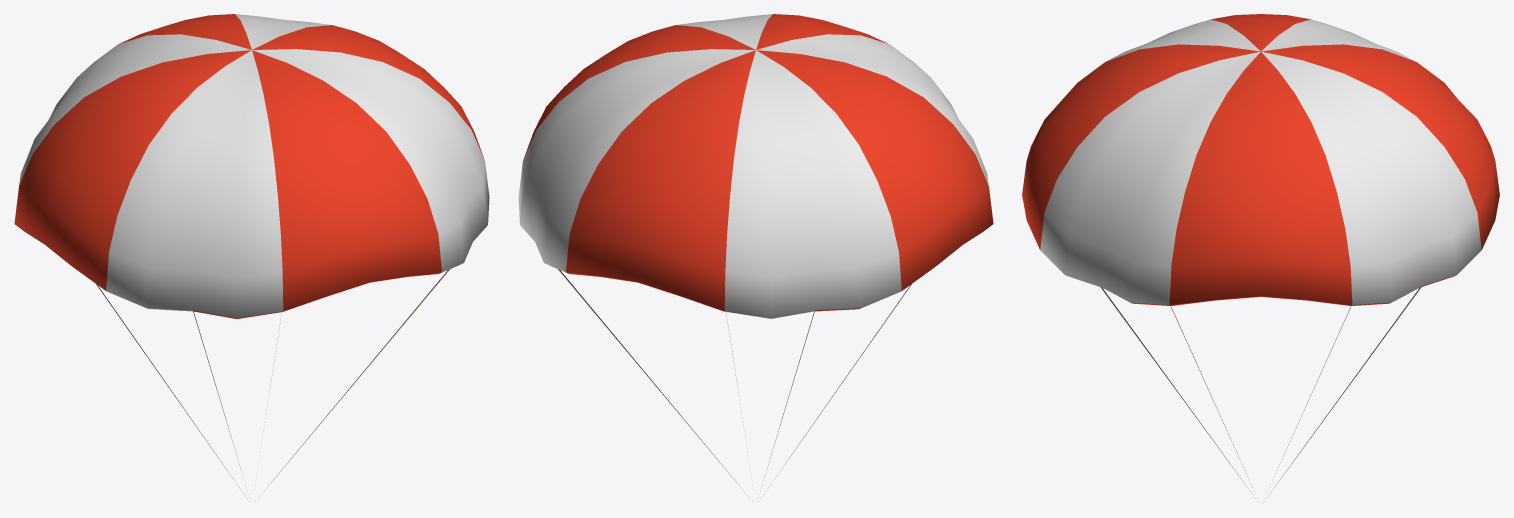
File: Parachute.fbx
3 renders of one model, left to right at view 1: azimuth 30°, elevation 25°; view 2: azimuth 150°, elevation 25°; view 3: azimuth 270°, elevation 25°, orthographic.
Parts seen in each view (by area): view 1: Sphere; view 2: Sphere; view 3: Sphere.
Boxes of the visible parts, <box> form: Sphere: <box>14,14,489,501</box>; Sphere: <box>518,14,993,501</box>; Sphere: <box>1022,14,1499,498</box>.
Size of the model in its own units: 841 by 877 by 841.
